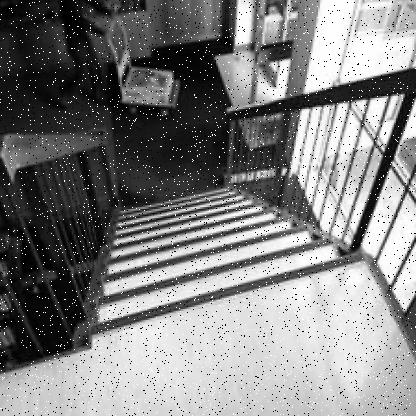stair_down: (90, 229, 333, 340)
